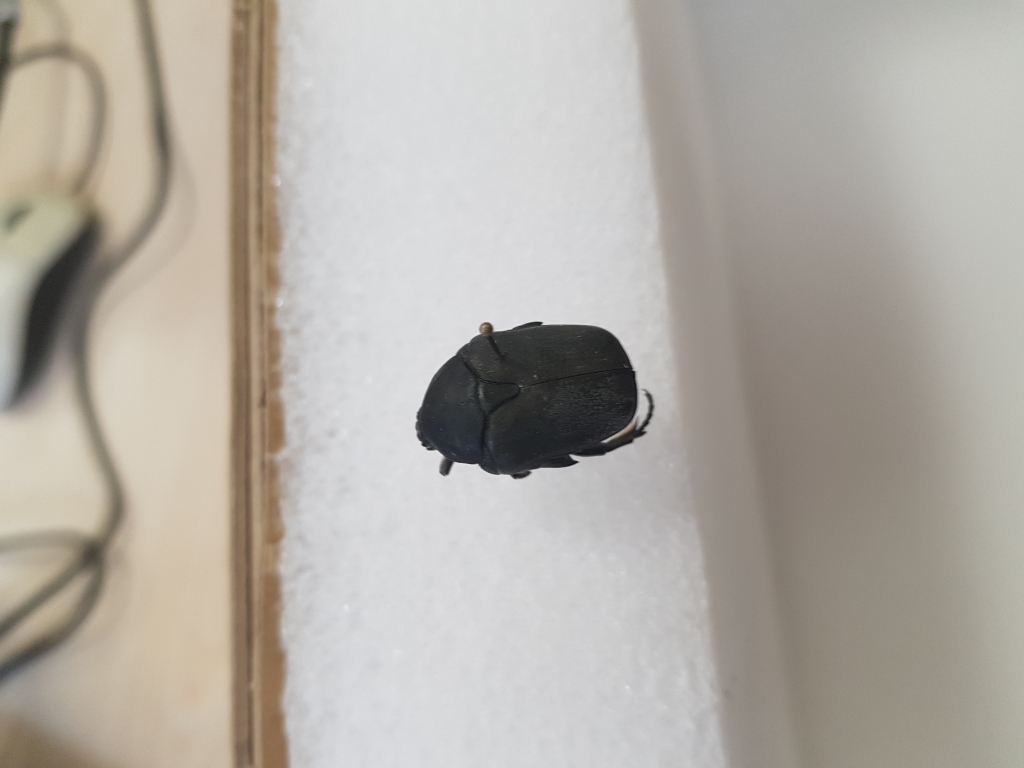Protaetia_afflicta: (392, 315, 661, 481)
